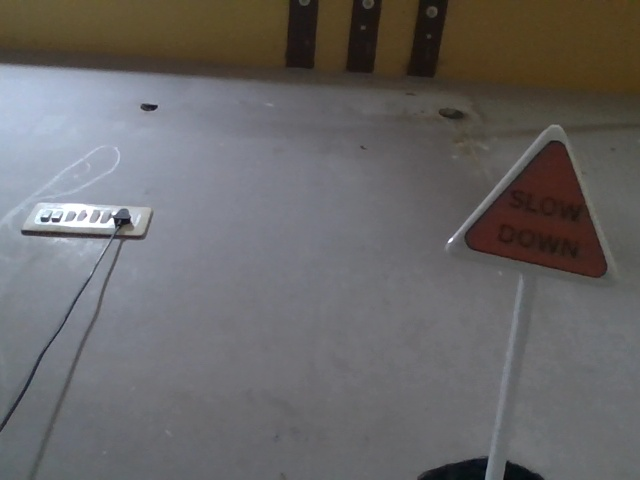slowdown: (431, 110, 609, 282)
